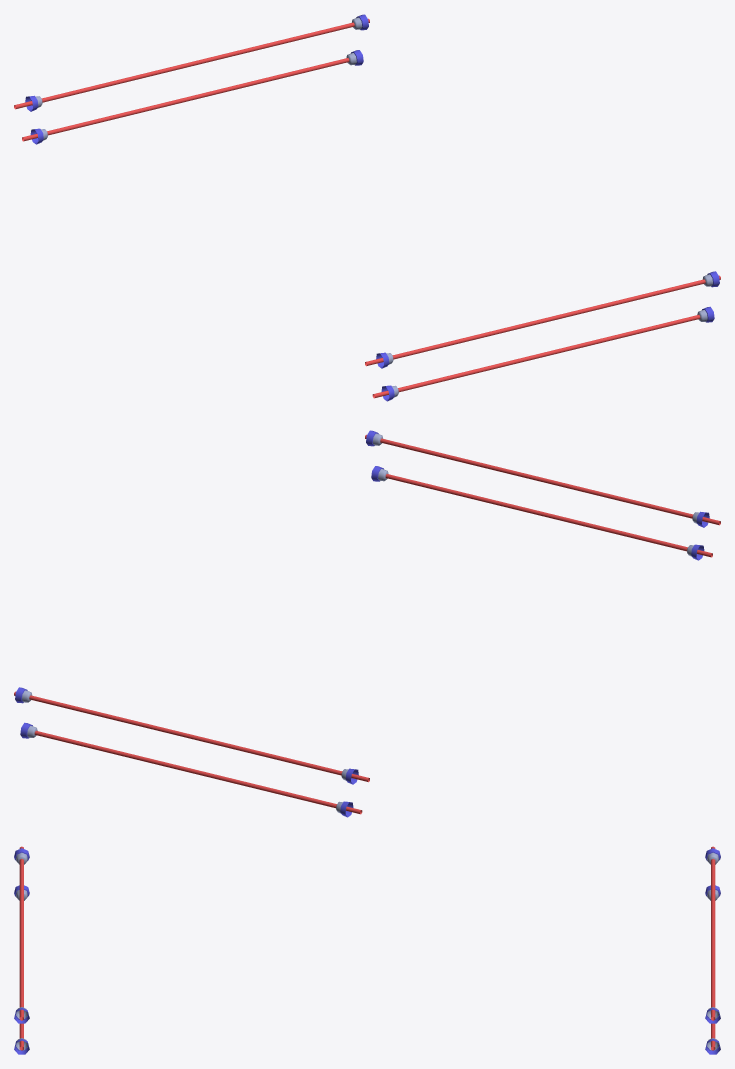
File: Level19_Lasers.fbx
The picture shows the model from 3 angles, top to bottom: view 1: azimuth 30°, elevation 25°; view 2: azimuth 150°, elevation 25°; view 3: azimuth 270°, elevation 25°; orthographic projection.
Visible parts, largest first — view 1: Laser (×4); view 2: Laser (×4); view 3: Laser (×2).
Boxes of the visible parts, x1,y1,x2,y2 form: Laser (×4): [14, 18, 720, 398]; Laser (×4): [14, 434, 720, 814]; Laser (×2): [19, 846, 715, 1020].
Bounding box in the file's own units: 95 × 12.39 × 167.
